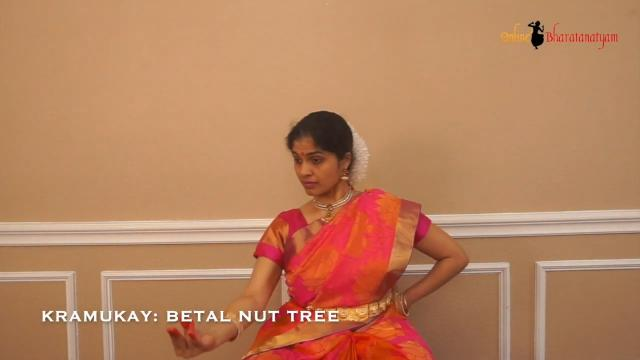kangul: (154, 320, 226, 360)
